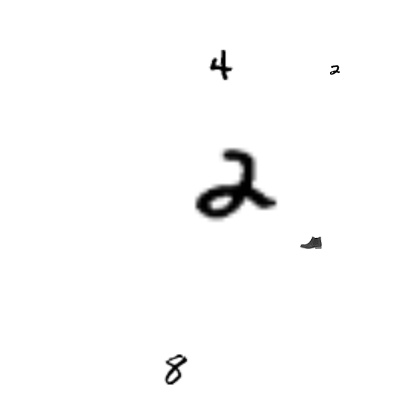1: (275, 55, 331, 111)
8: (55, 191, 83, 219)
Ankle_boot: (36, 283, 148, 395)
Pullover: (289, 107, 401, 219)
Sandal: (54, 80, 166, 192), (142, 326, 184, 368)
Shirt: (387, 36, 415, 64)
